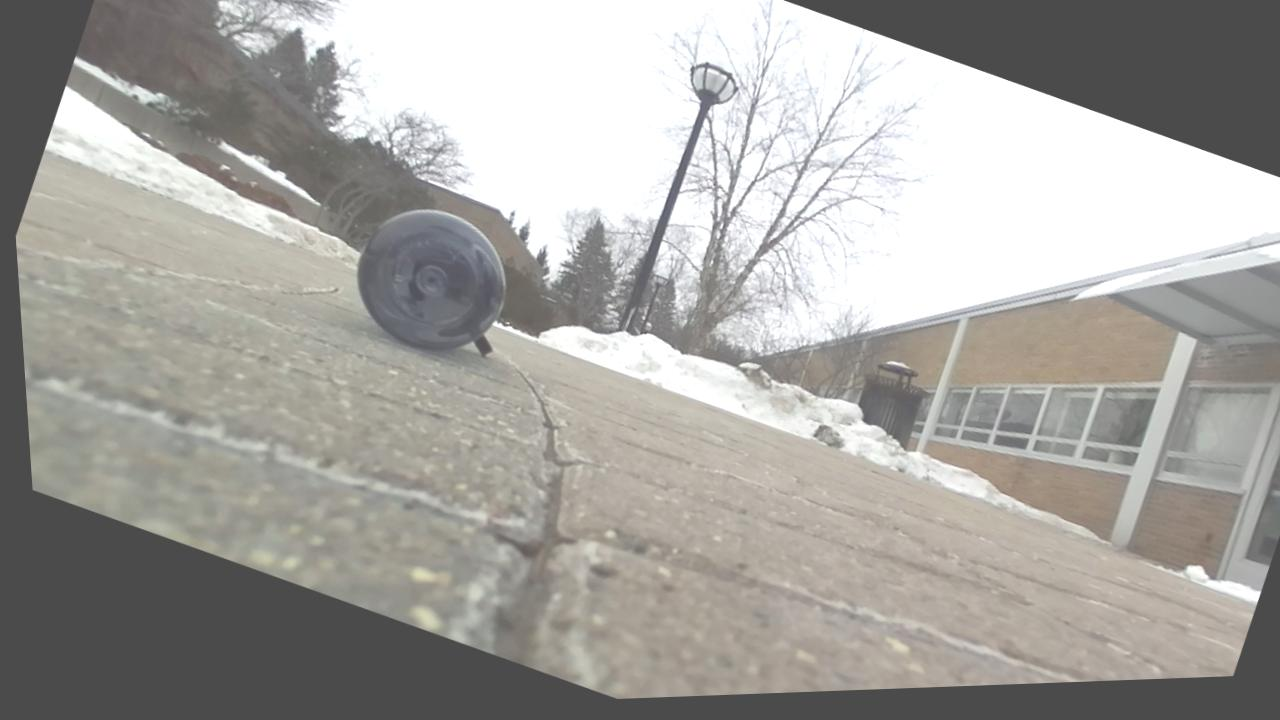bottle: (357, 209, 505, 354)
